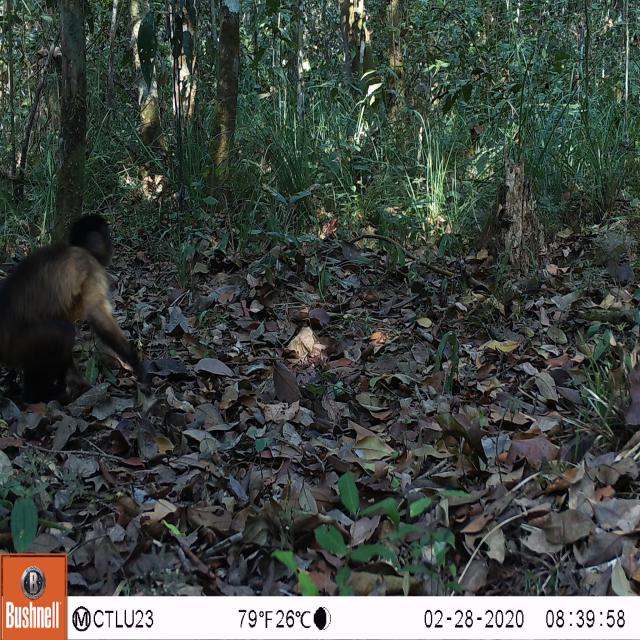Margarita Island Capuchin: (0, 200, 154, 414)
